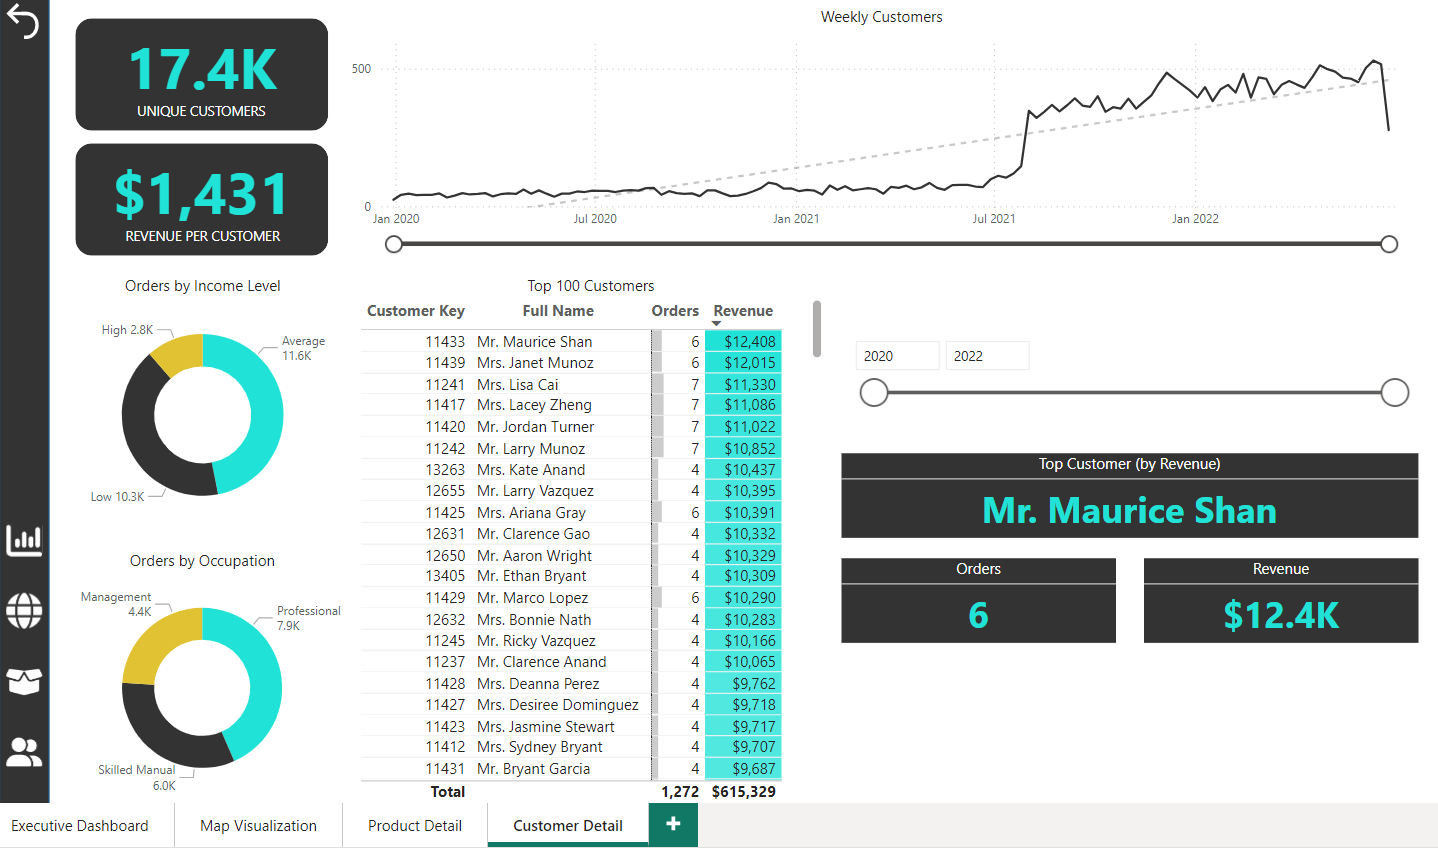

This screenshot's page, from the dashboard's own definition file:
{"tool":"powerbi","page":{"name":"Customer Detail","canvas":[1280,720],"ordinal":3},"visuals":[{"type":"shape","box":[0,0,45,720],"z":0},{"type":"actionButton","box":[0,463.8,45,40],"z":0,"group":"g1"},{"type":"shape","box":[67.5,18.8,225,100],"z":1000},{"type":"actionButton","box":[0,526.3,45,40],"z":1000,"group":"g1"},{"type":"card","fields":{"Values":["Measure Table.Total Customers"]},"box":[75,7.5,208.8,122.5],"z":2000},{"type":"actionButton","box":[0,588.8,45,40],"z":2000,"group":"g1"},{"type":"shape","box":[67.5,130,225,100],"z":3000},{"type":"actionButton","box":[0,651.3,45,40],"z":3000,"group":"g1"},{"type":"card","fields":{"Values":["Measure Table.Average Revenue per Customer"]},"box":[76.2,118.8,208.8,122.5],"z":4000},{"type":"lineChart","title":"Weekly Customers","fields":{"Y":["Measure Table.Total Customers"],"Category":["Calendar Lookup.Date Hierarchy.Start of Year","Calendar Lookup.Date Hierarchy.Start of Month","Calendar Lookup.Date Hierarchy.Start of Week","Calendar Lookup.Date Hierarchy.Date"]},"box":[307.5,7.5,953.8,222.5],"z":5000},{"type":"donutChart","title":"Orders by Income Level","fields":{"Y":["Measure Table.Total Orders"],"Category":["Customer Lookup.Income Level"]},"box":[50,246.2,262.5,232.5],"z":6000},{"type":"donutChart","title":"Orders by Occupation","fields":{"Y":["Measure Table.Total Orders"],"Category":["Customer Lookup.Occupation"]},"box":[48.8,491.2,263.8,228.8],"z":7000},{"type":"tableEx","title":"Top 100 Customers","fields":{"Values":["Customer Lookup.CustomerKey","Customer Lookup.Full Name","Measure Table.Total Orders","Measure Table.Total Revenue"]},"box":[315,246.2,421.2,473.8],"z":8000},{"type":"card","title":"Top Customer (by Revenue)","fields":{"Values":["Measure Table.Full Name (Customer Detail)"]},"box":[748.8,406,512.5,75],"z":9000},{"type":"card","title":"Orders","fields":{"Values":["Measure Table.Total Orders (Customer Detail)"]},"box":[748.8,498.5,243.8,75],"z":10000},{"type":"card","title":"Revenue","fields":{"Values":["Measure Table.Total Revenue (Customer Detail)"]},"box":[1017.5,498.5,243.8,75],"z":11000},{"type":"slicer","fields":{"Values":["Calendar Lookup.Year"]},"box":[748.8,295,512.5,83.8],"z":12000},{"type":"actionButton","box":[0,0,45,42.5],"z":13000},{"type":"group","id":"g1","title":"Navigation Buttons","box":[0,463.8,45,227.5],"z":14000}]}

Visuals, with their boxes on the page's 1280x720 design canvas (x1, y1, x2, y2). These are canvas units, not pixel positions in the 1438x848 screenshot, which may show the page scaled, cropped or inside an application window:
shape: bbox=(0, 0, 45, 720)
actionButton: bbox=(0, 464, 45, 504)
shape: bbox=(68, 19, 292, 119)
actionButton: bbox=(0, 526, 45, 566)
card - Measure Table.Total Customers: bbox=(75, 8, 284, 130)
actionButton: bbox=(0, 589, 45, 629)
shape: bbox=(68, 130, 292, 230)
actionButton: bbox=(0, 651, 45, 691)
card - Measure Table.Average Revenue per Customer: bbox=(76, 119, 285, 241)
"Weekly Customers" lineChart: bbox=(308, 8, 1261, 230)
"Orders by Income Level" donutChart: bbox=(50, 246, 312, 479)
"Orders by Occupation" donutChart: bbox=(49, 491, 313, 720)
"Top 100 Customers" tableEx: bbox=(315, 246, 736, 720)
"Top Customer (by Revenue)" card: bbox=(749, 406, 1261, 481)
"Orders" card: bbox=(749, 498, 993, 574)
"Revenue" card: bbox=(1018, 498, 1261, 574)
slicer - Calendar Lookup.Year: bbox=(749, 295, 1261, 379)
actionButton: bbox=(0, 0, 45, 42)
"Navigation Buttons" group: bbox=(0, 464, 45, 691)
